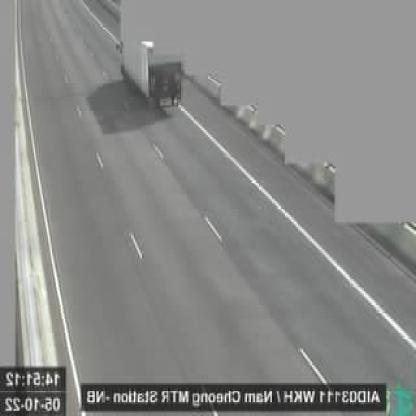Truck: (124, 35, 184, 109)
